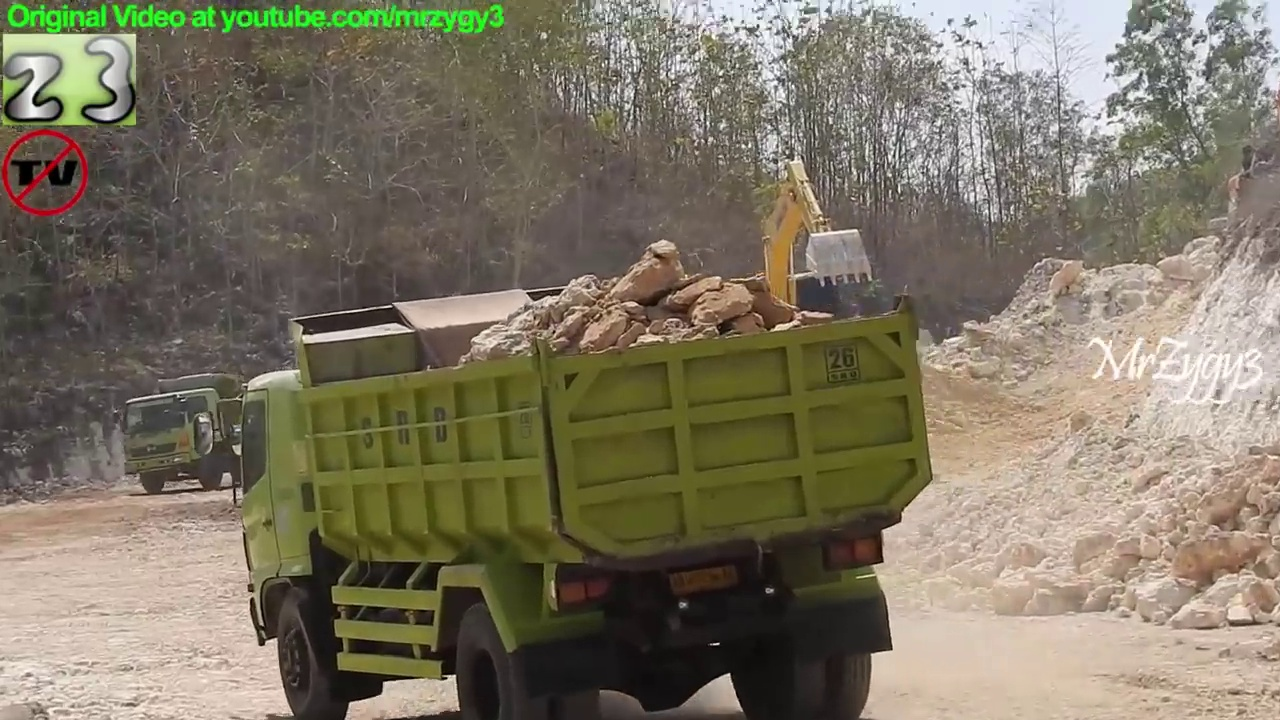excavator: (572, 148, 882, 534)
truck: (193, 286, 940, 720), (119, 368, 351, 498)
